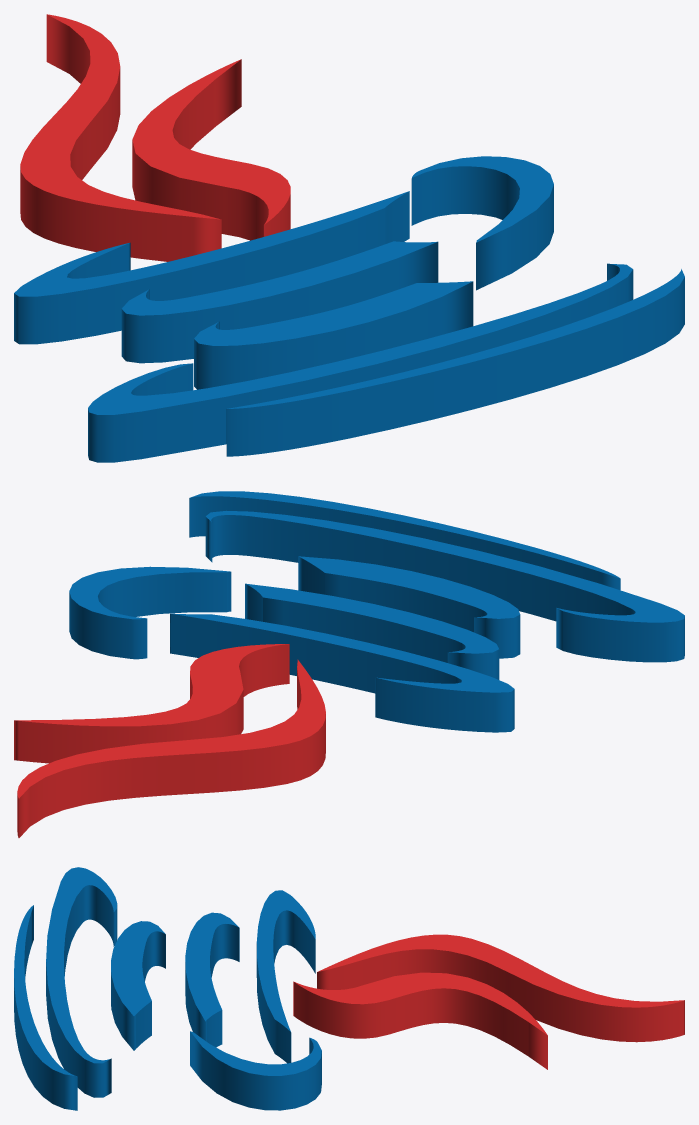
Rendered from java.glb.
The picture shows the model from 3 angles, top to bottom: view 1: azimuth 30°, elevation 25°; view 2: azimuth 150°, elevation 25°; view 3: azimuth 270°, elevation 25°; orthographic projection. The views are drawn at different scales.
Parts seen in each view (by area): view 1: Curve.014; view 2: Curve.014; view 3: Curve.014.
Boxes of the visible parts, bbox=[...] form: Curve.014: bbox=[14, 14, 684, 462]; Curve.014: bbox=[14, 491, 684, 837]; Curve.014: bbox=[14, 867, 684, 1110].
Bounding box in the file's own units: 2.67 × 0.2057 × 3.62.
